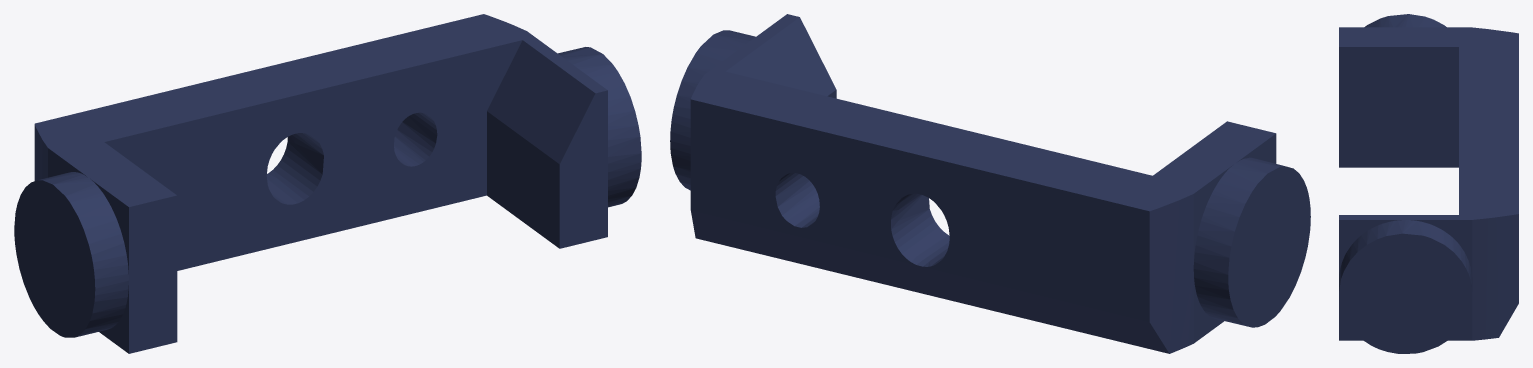
The model's file is i02_head_right_eye_horizontal_visual.obj.
3 views of the same model, side by side, from view 1: azimuth 30°, elevation 25°; view 2: azimuth 150°, elevation 25°; view 3: azimuth 270°, elevation 25° (orthographic). The views are drawn at different scales.
Parts seen in each view (by area): view 1: i02_head_right_eye_horizontal_visual.001; view 2: i02_head_right_eye_horizontal_visual.001; view 3: i02_head_right_eye_horizontal_visual.001.
Part boxes in pixels (x1,y1,x2,y2): i02_head_right_eye_horizontal_visual.001: (14,14,641,353); i02_head_right_eye_horizontal_visual.001: (670,14,1310,353); i02_head_right_eye_horizontal_visual.001: (1339,14,1518,353).
Bounding box in the file's own units: 0.1838 × 0.0472 × 0.0637.
